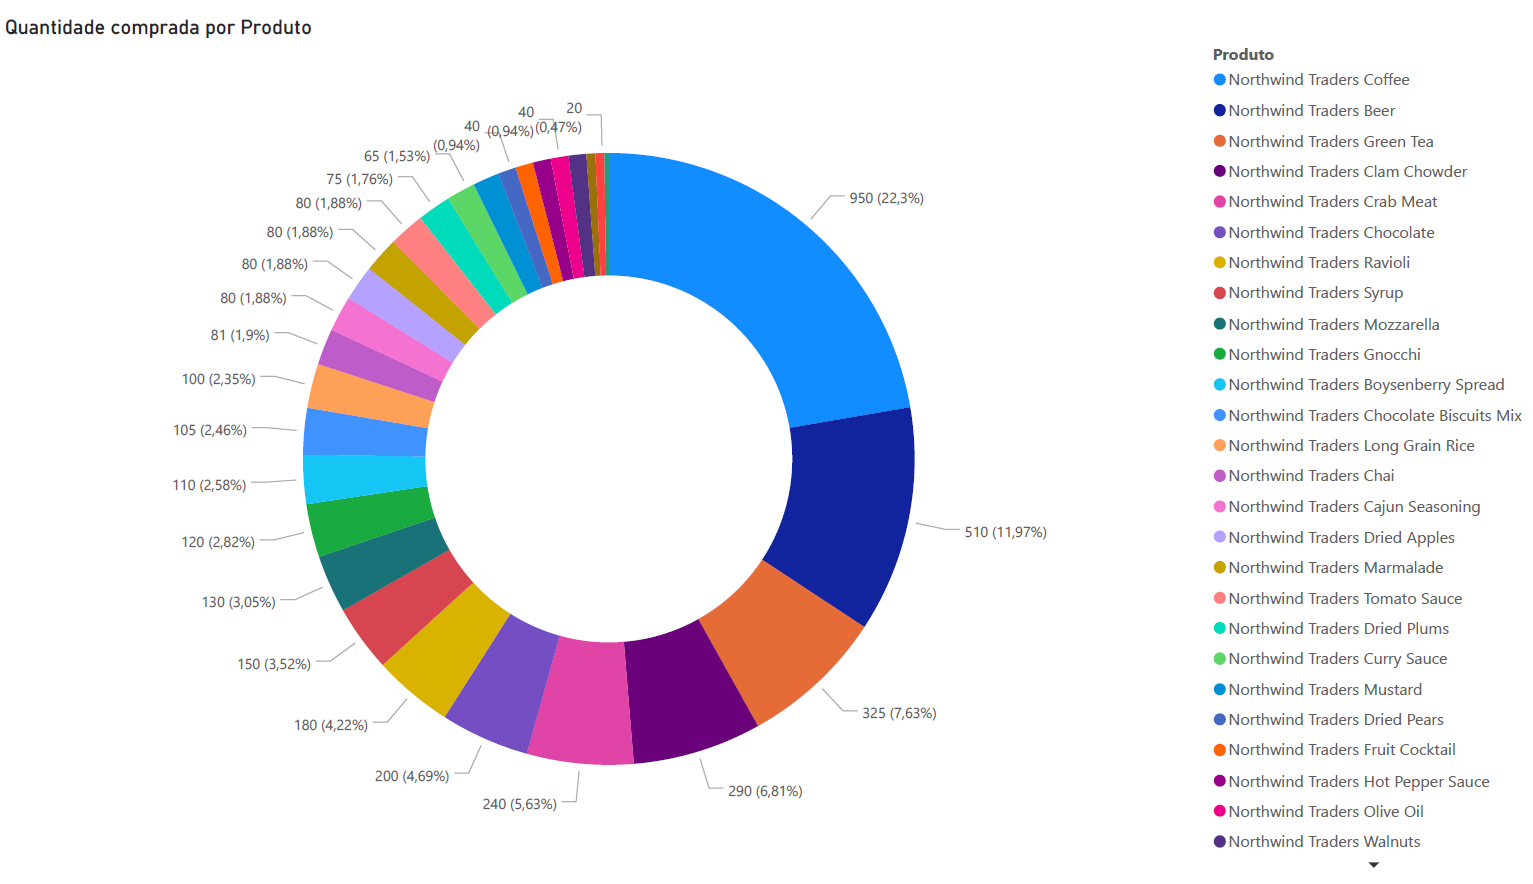

The page's visual inventory and layout, read from the dashboard file:
{"tool":"powerbi","page":{"name":"Produtos mais comprados","canvas":[1280,720],"ordinal":3},"visuals":[{"type":"donutChart","fields":{"Category":["dw_northwind product_dim.name"],"Y":["Sum(dw_northwind purchase_fact.quantity)"]},"box":[0,0,1280,719.8],"z":0}]}

Visuals, with their boxes in screenshot pixels (x1, y1, x2, y2), scaled from the page's 1280x720 canvas onto the 1533x884 screenshot:
donutChart - dw_northwind product_dim.name x Sum(dw_northwind purchase_fact.quantity): [left=0, top=0, right=1532, bottom=883]
